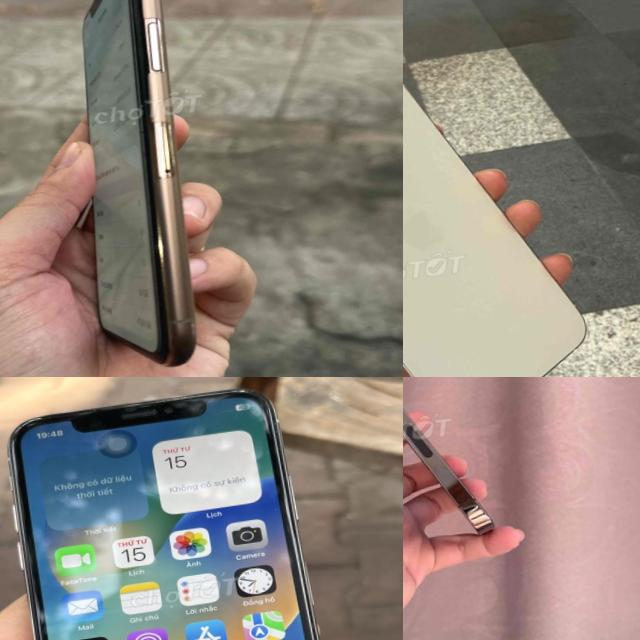scratch: (173, 279, 207, 353)
